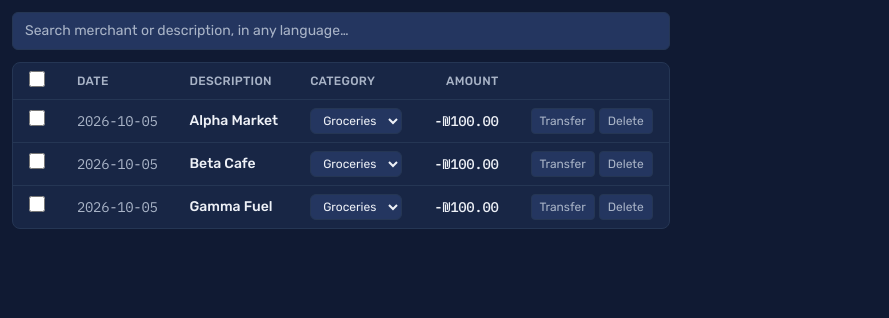
Test: selecting transactions › sends only the ticked rows, and clears the selection afterwards
Click the checkbox named "Select Alpha Market" at {"x": 37, "y": 118}, box [29,110,45,126]
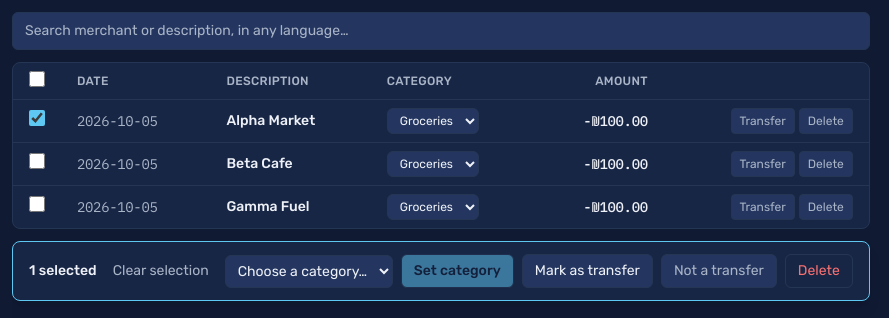
Click the checkbox named "Select Gamma Fuel" at {"x": 37, "y": 204}, box [29,196,45,212]
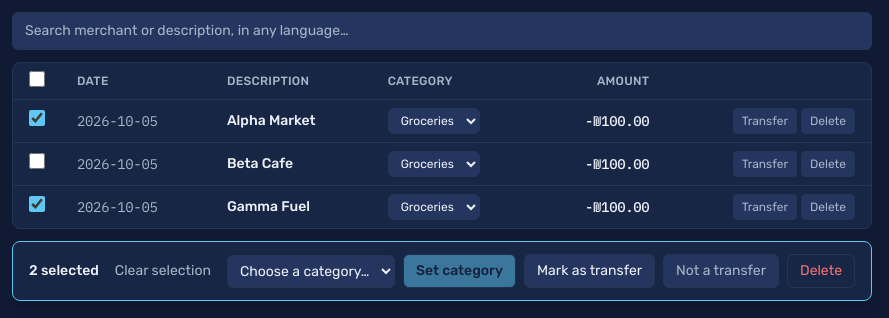
Select "Dining" in the dropdown named "category for the selected" in the row of "selected" at {"x": 311, "y": 271}, box [227,254,395,288]
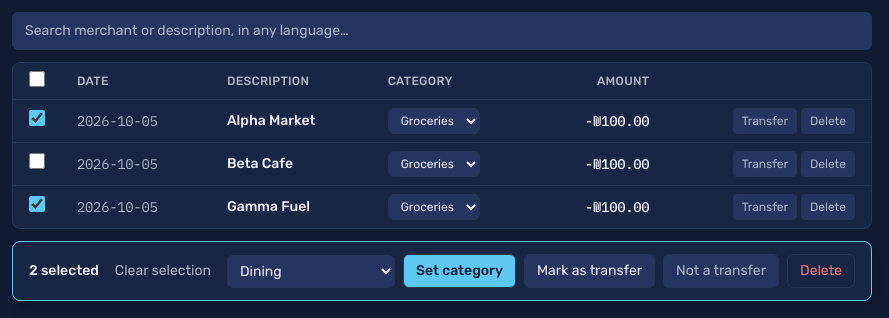
Click the button "Set category" at {"x": 459, "y": 271}, box [403,254,516,288]
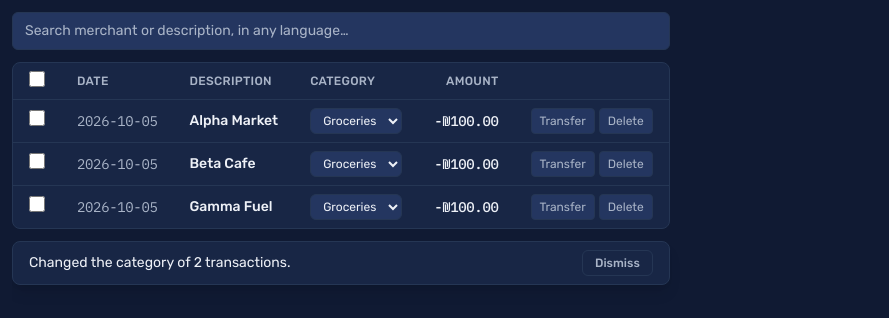
Result: the text "2 selected" is gone
